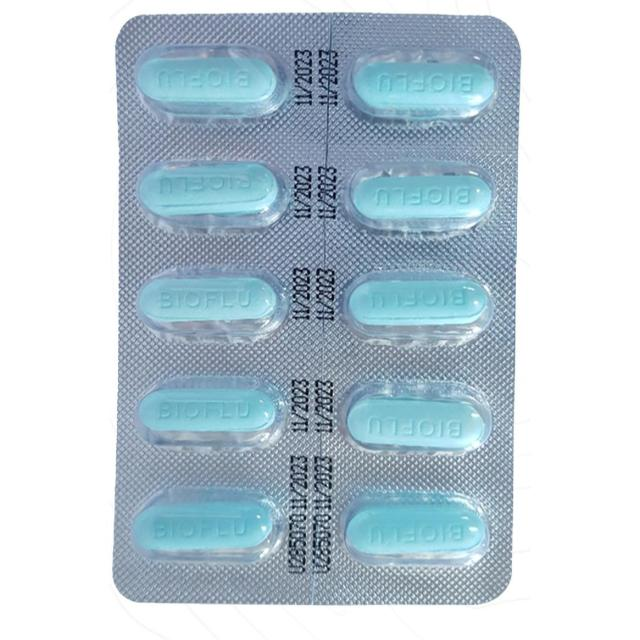blister: (118, 6, 520, 607)
